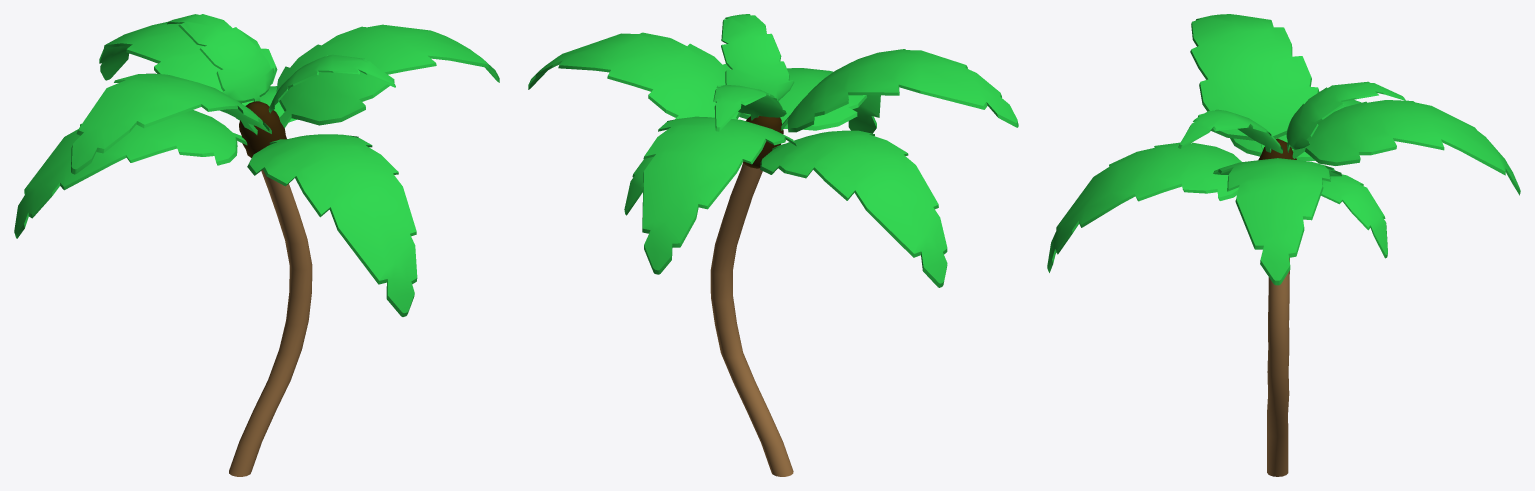
Rendered from curvedPalm_low.fbx.
3 renders of one model, left to right at view 1: azimuth 30°, elevation 25°; view 2: azimuth 150°, elevation 25°; view 3: azimuth 270°, elevation 25°, orthographic. The views are drawn at different scales.
Visible parts, largest first — view 1: bigPalm_mid.001, trunk_low, smallPalm_mid.001, top; view 2: bigPalm_mid.001, trunk_low, smallPalm_mid.001, top; view 3: bigPalm_mid.001, smallPalm_mid.001, trunk_low.
Boxes of the visible parts, <box> form: bigPalm_mid.001: <box>14,22,499,316</box>; trunk_low: <box>229,170,312,476</box>; smallPalm_mid.001: <box>167,14,395,122</box>; top: <box>239,101,286,157</box>; bigPalm_mid.001: <box>528,32,1018,287</box>; trunk_low: <box>710,163,793,476</box>; smallPalm_mid.001: <box>624,14,794,215</box>; top: <box>743,116,783,168</box>; bigPalm_mid.001: <box>1047,14,1520,285</box>; smallPalm_mid.001: <box>1178,81,1405,258</box>; trunk_low: <box>1267,258,1289,476</box>.
Size of the model in its own units: 17.69 by 15.59 by 16.88.
